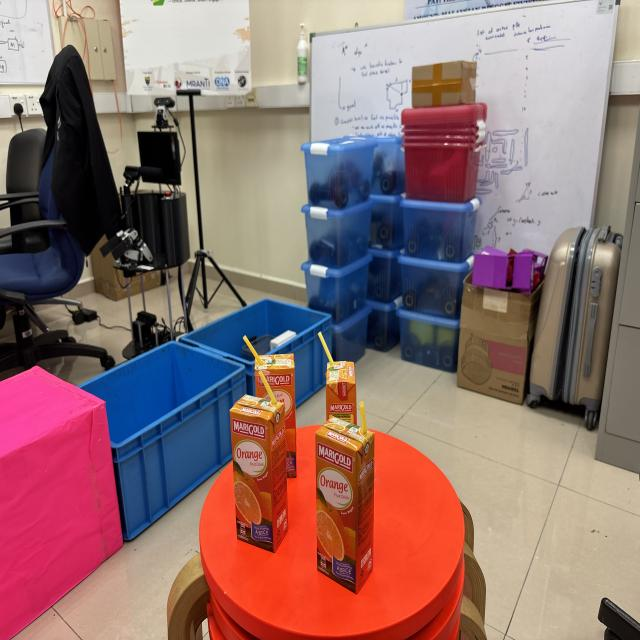drink_carton: (311, 400, 379, 596), (230, 365, 295, 558), (243, 327, 302, 483), (310, 328, 362, 426)
